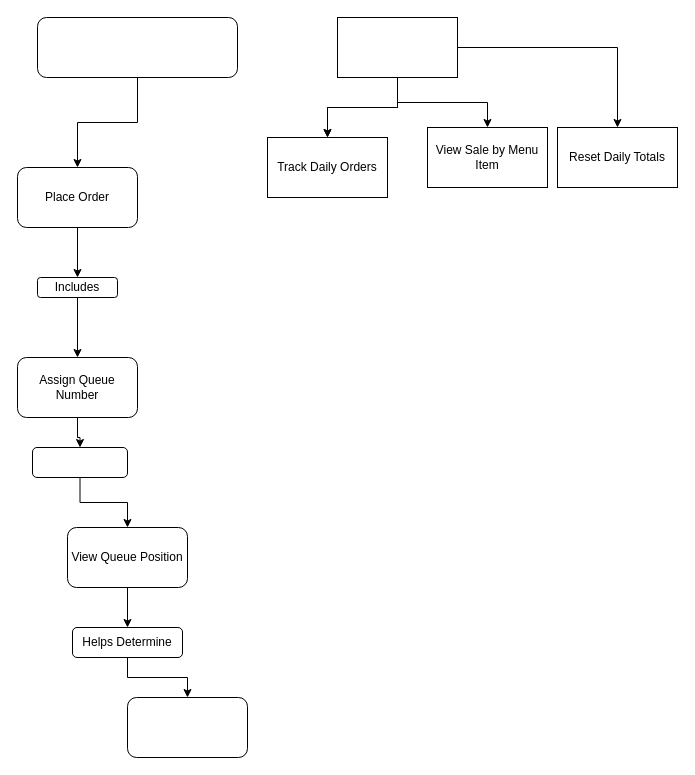
The diagram is 695 pixels wide and 775 high, and some of its shapes have lost their labels. The centre of each missing label's shape, as x and y in pixels:
"Customer" goes at point 137,47.
"Estimated Wait Time" goes at point 187,727.
"Manager" goes at point 397,47.
"Provides position for" goes at point 80,462.
